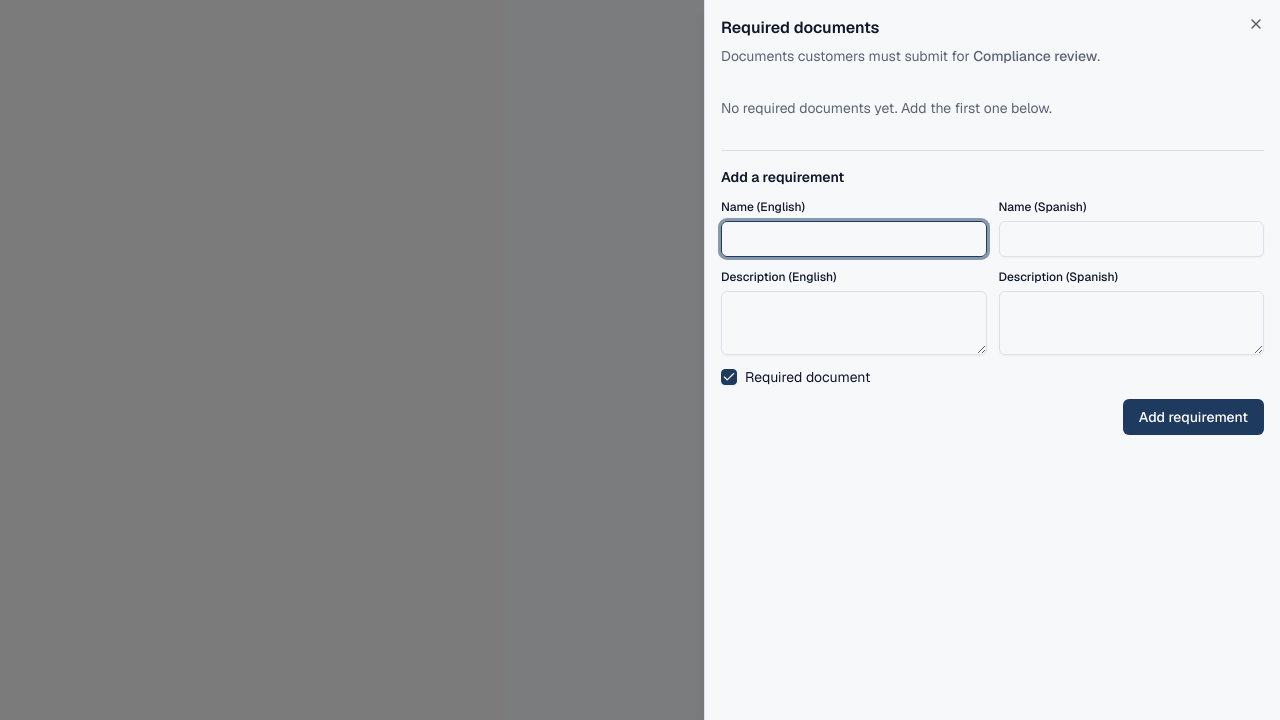
Scenario: RequirementsEditor › validates bilingual names before adding a requirement
Step 1. Click the button "Add requirement" → [1193, 417], box x1=1123 y1=399 x2=1264 y2=435
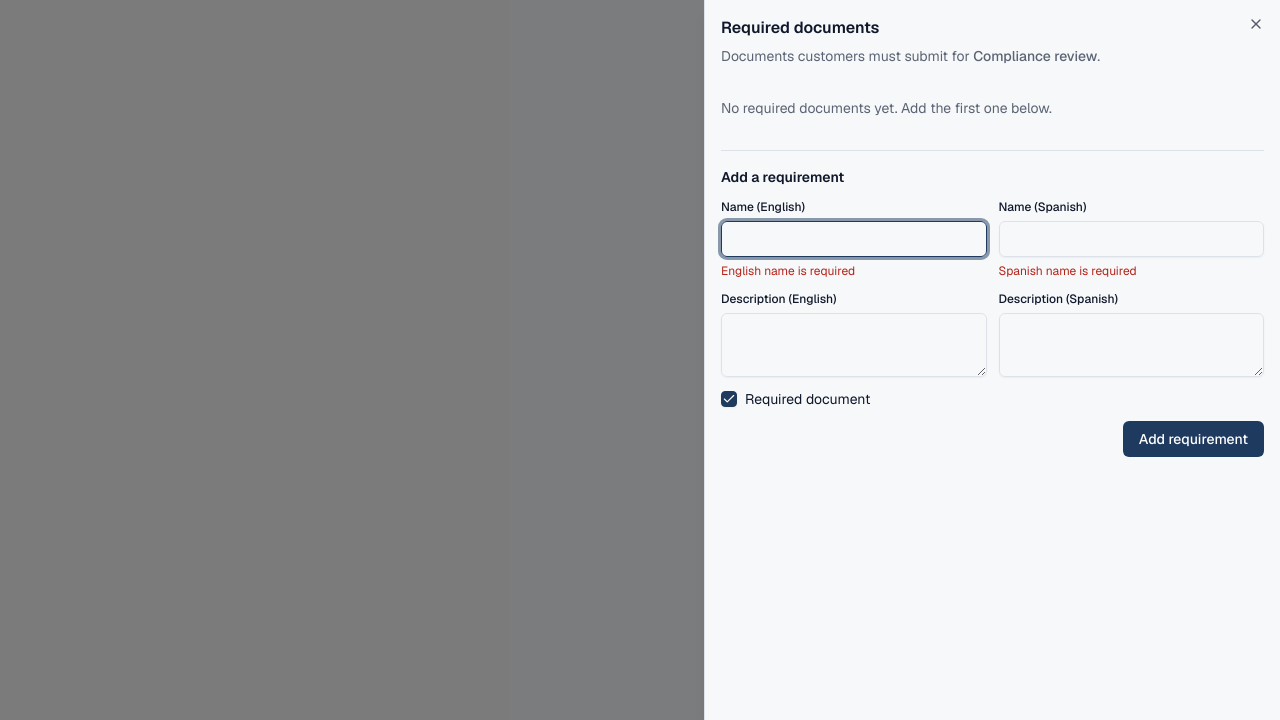
Expected: the text "English name is required" is shown, x1=721 y1=263 x2=855 y2=279
Expected: the text "Spanish name is required" is shown, x1=998 y1=263 x2=1137 y2=279
